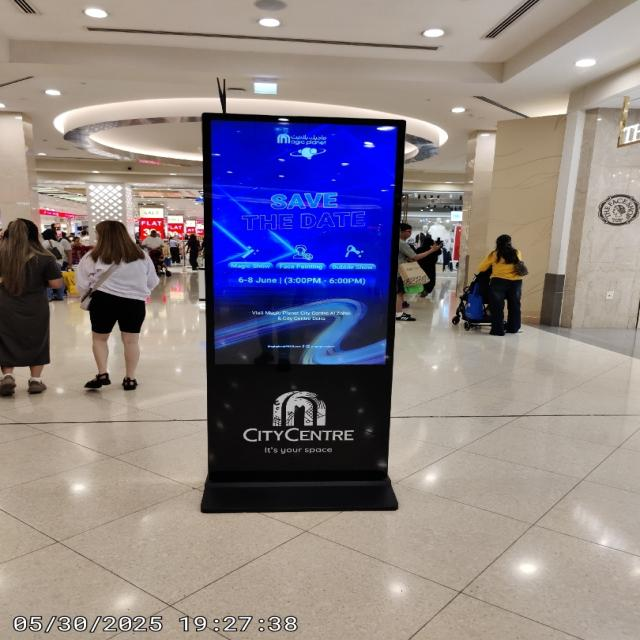mupi: (205, 114, 403, 482)
